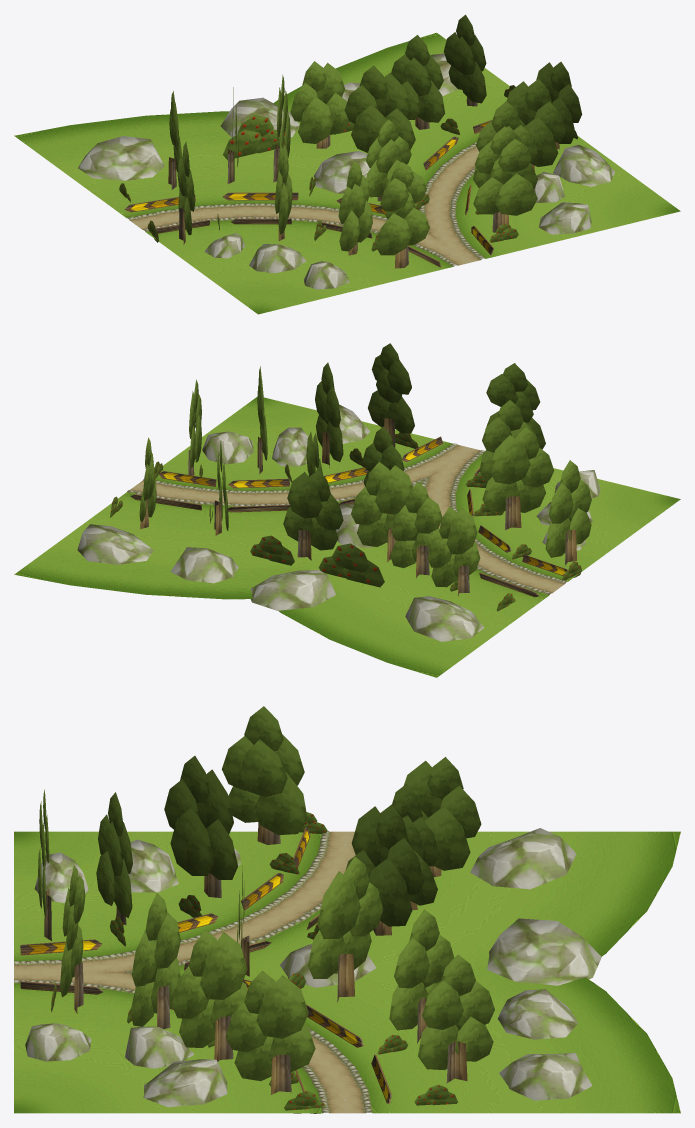
The model's file is ForestRoad01_BothCurve.FBX.
3 renders of one model, top to bottom at view 1: azimuth 30°, elevation 25°; view 2: azimuth 150°, elevation 25°; view 3: azimuth 270°, elevation 25°, orthographic. The views are drawn at different scales.
Parts seen in each view (by area): view 1: Road, Tree (×16), Stone (×10), Bush, Fence; view 2: Road, Tree (×15), Stone (×8), Bush (×2); view 3: Road, Tree (×14), Stone (×10), Fence (×2), Bush.
Boxes of the visible parts, <box> form: Road: <box>14,32,680,314</box>; Tree (×16): <box>168,14,582,268</box>; Stone (×10): <box>78,53,615,289</box>; Bush: <box>223,115,290,160</box>; Fence: <box>222,192,298,200</box>; Road: <box>14,396,680,677</box>; Tree (×15): <box>139,343,591,596</box>; Stone (×8): <box>77,404,484,641</box>; Bush (×2): <box>250,535,384,587</box>; Road: <box>14,831,680,1113</box>; Tree (×14): <box>38,706,494,1094</box>; Stone (×10): <box>25,828,601,1107</box>; Fence (×2): <box>20,939,363,1047</box>; Bush: <box>414,1084,457,1105</box>.
Bounding box in the file's own units: 10004 × 2536 × 10000.
